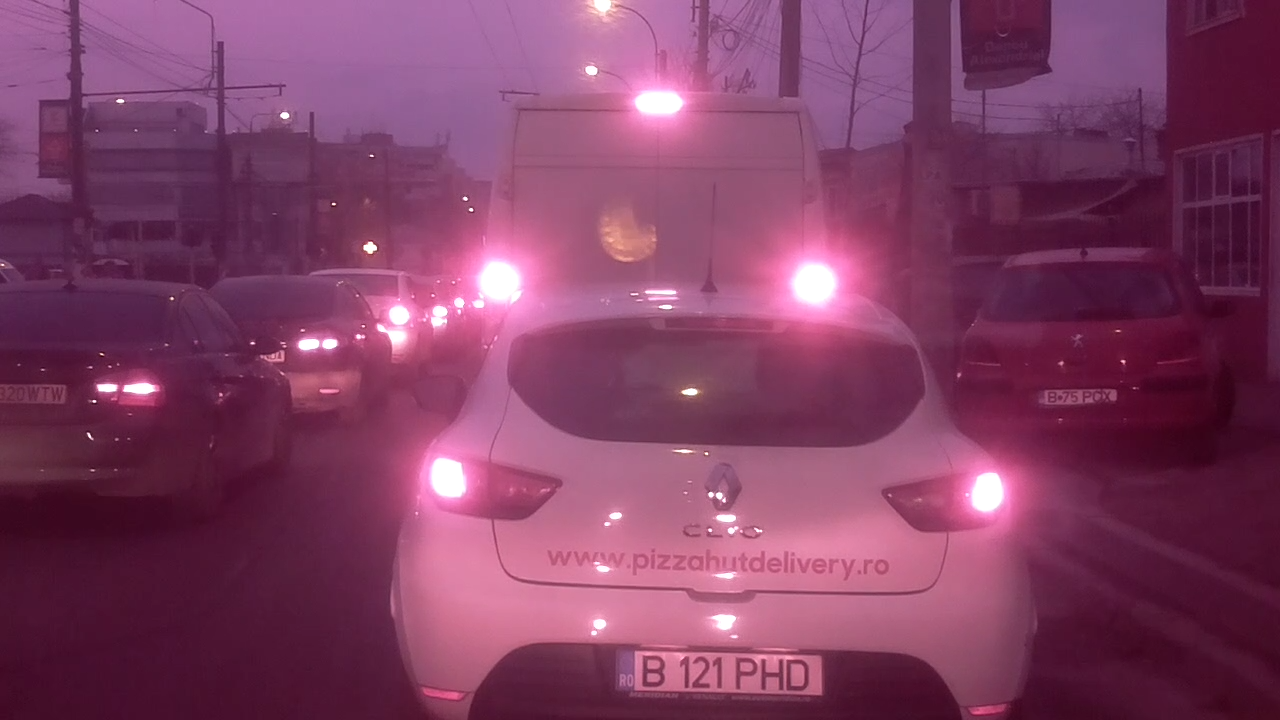license-plate: (610, 643, 831, 703), (1033, 384, 1121, 407)
